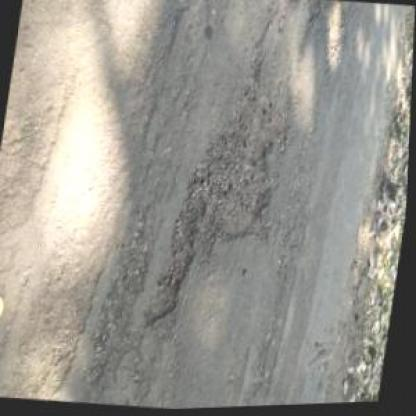pothole: (141, 43, 302, 340)
